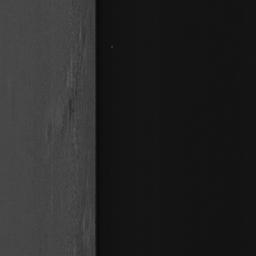Silk spot: (48, 42, 83, 163), (61, 211, 83, 256), (29, 151, 46, 177), (48, 191, 60, 216), (69, 27, 85, 45), (32, 128, 42, 147), (34, 107, 43, 128), (12, 88, 15, 120)
